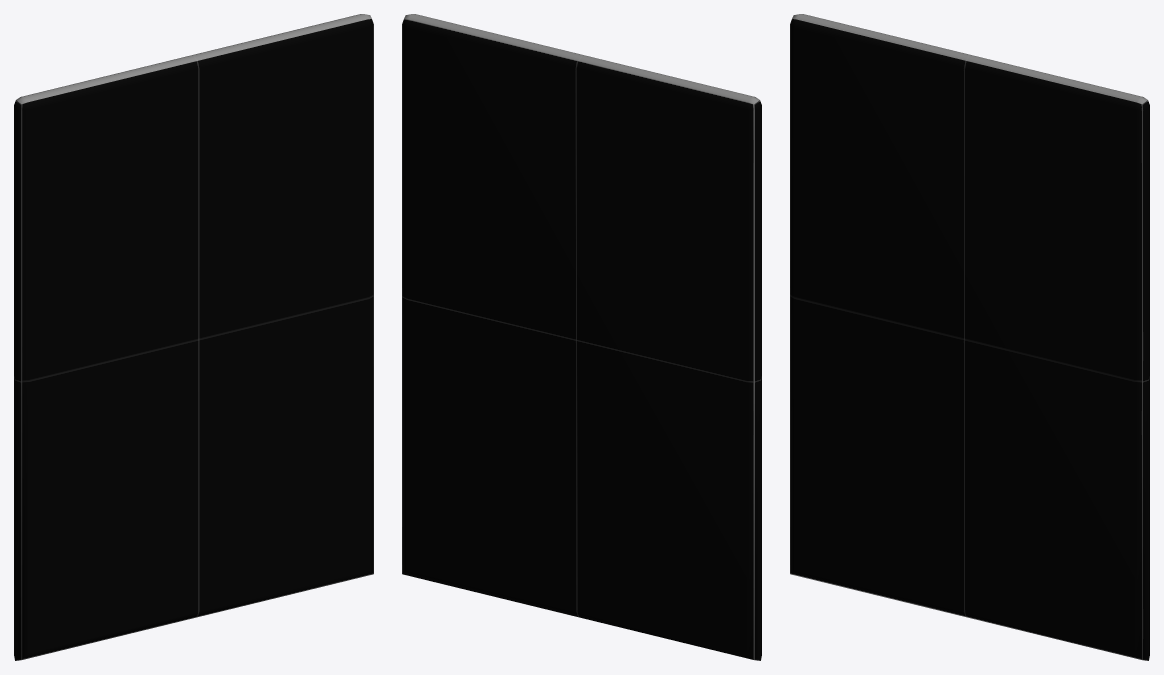
File: card_pivotBottom.fbx
3 views of the same model, side by side, from view 1: azimuth 30°, elevation 25°; view 2: azimuth 150°, elevation 25°; view 3: azimuth 330°, elevation 25° (orthographic).
Visible parts, largest first — view 1: card; view 2: card; view 3: card.
Part boxes in pixels (left/top/right/bottom): card: left=14, top=14, right=373, bottom=660; card: left=402, top=14, right=761, bottom=660; card: left=790, top=14, right=1149, bottom=660.
Bounding box in the file's own units: 2 × 3 × 0.1.
1 material, 1 textured.
